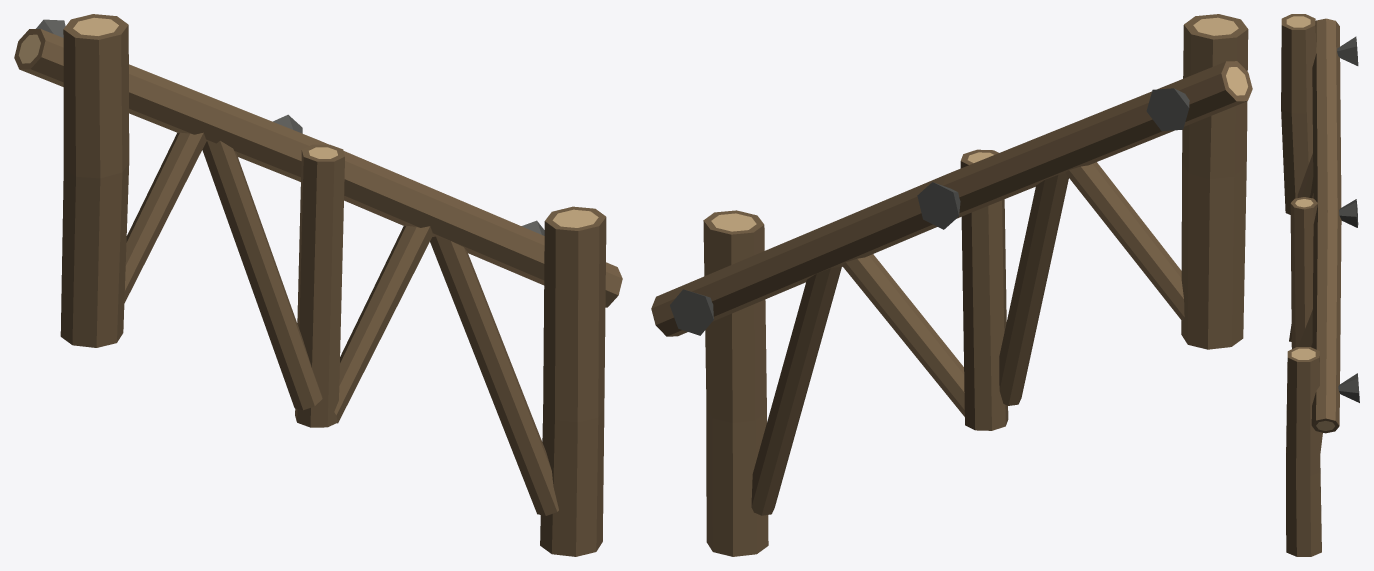
The model's file is rpgpp_ag_wall_platform_stairs_02a_2m_handrail_02.fbx.
The picture shows the model from 3 angles, left to right: view 1: azimuth 30°, elevation 25°; view 2: azimuth 150°, elevation 25°; view 3: azimuth 270°, elevation 25°; orthographic projection. The views are drawn at different scales.
Visible parts, largest first — view 1: rpgpp_ag_wall_platform_stairs_02a_2m_handrail_02; view 2: rpgpp_ag_wall_platform_stairs_02a_2m_handrail_02; view 3: rpgpp_ag_wall_platform_stairs_02a_2m_handrail_02.
Part boxes in pixels (left/top/right/bottom): rpgpp_ag_wall_platform_stairs_02a_2m_handrail_02: left=14, top=14, right=622, bottom=556; rpgpp_ag_wall_platform_stairs_02a_2m_handrail_02: left=651, top=14, right=1252, bottom=556; rpgpp_ag_wall_platform_stairs_02a_2m_handrail_02: left=1281, top=14, right=1359, bottom=556.
Size of the model in its own units: 3.23 by 3.28 by 0.6083.
